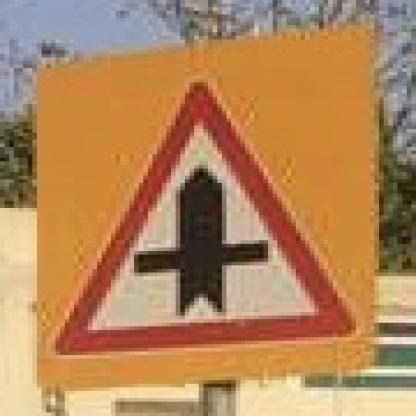Cross Roads: (38, 64, 384, 369)
